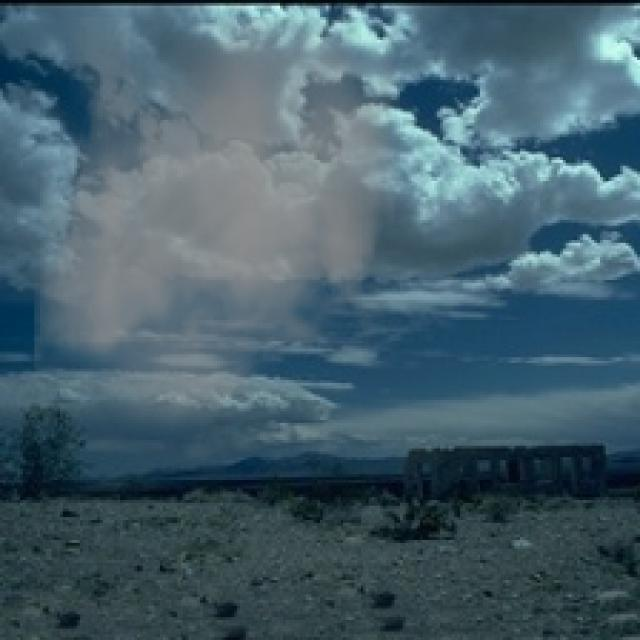Smoke: (34, 17, 400, 443)
